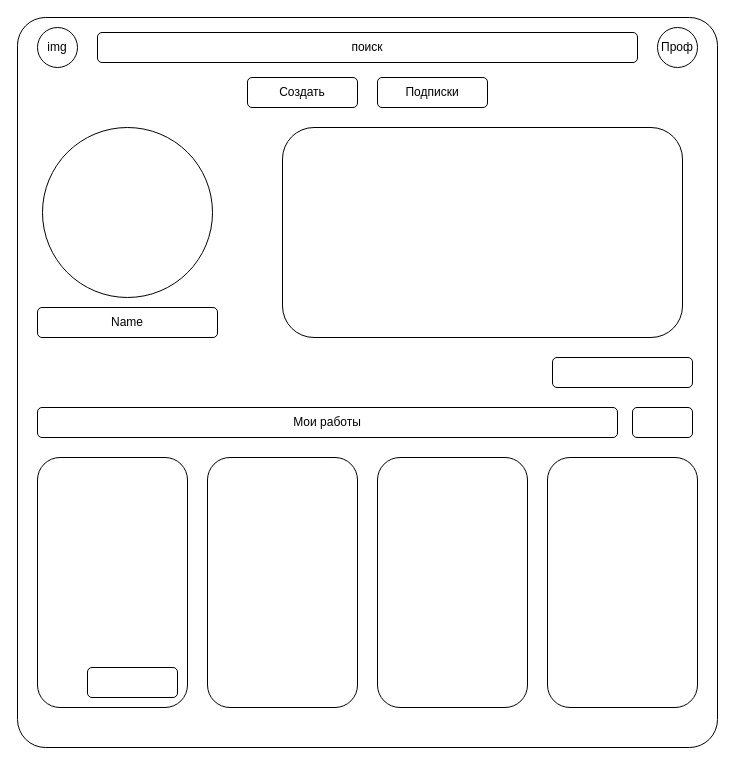
This 735x765 diagram has some shape labels left out. The centre of each missing label's shape, as x and y in pixels:
"Информация" goes at point (482, 232).
"Лайки, просмотры" goes at point (132, 682).
"Сортировать по" goes at point (622, 372).
"Число подписок" goes at point (662, 422).
